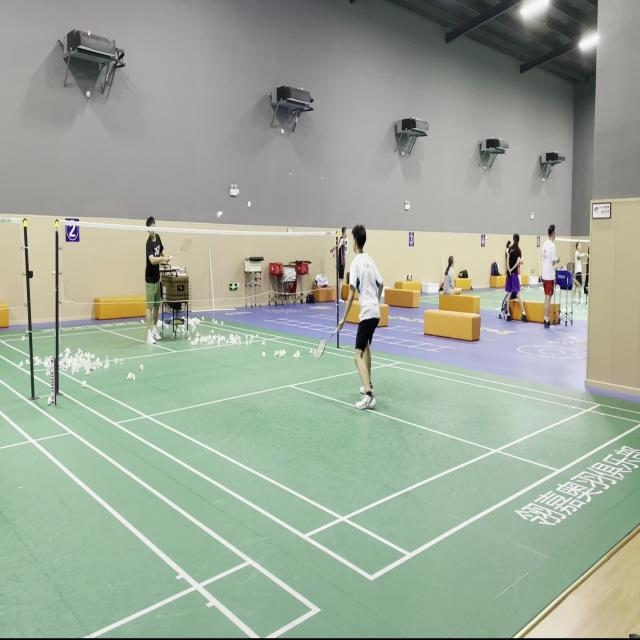shuttlecock: (216, 210, 224, 218)
